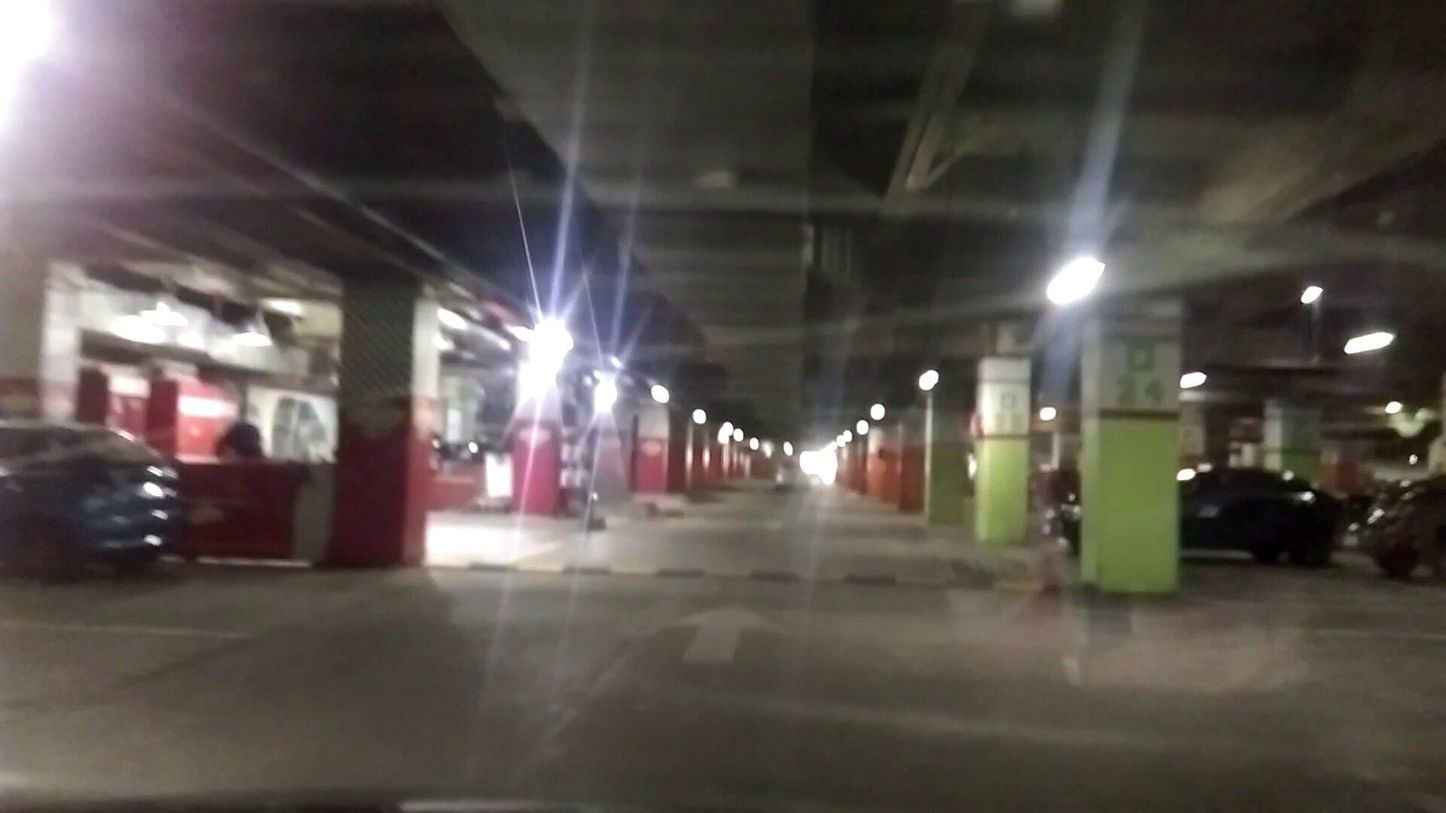Bump: (424, 548, 1071, 597)
